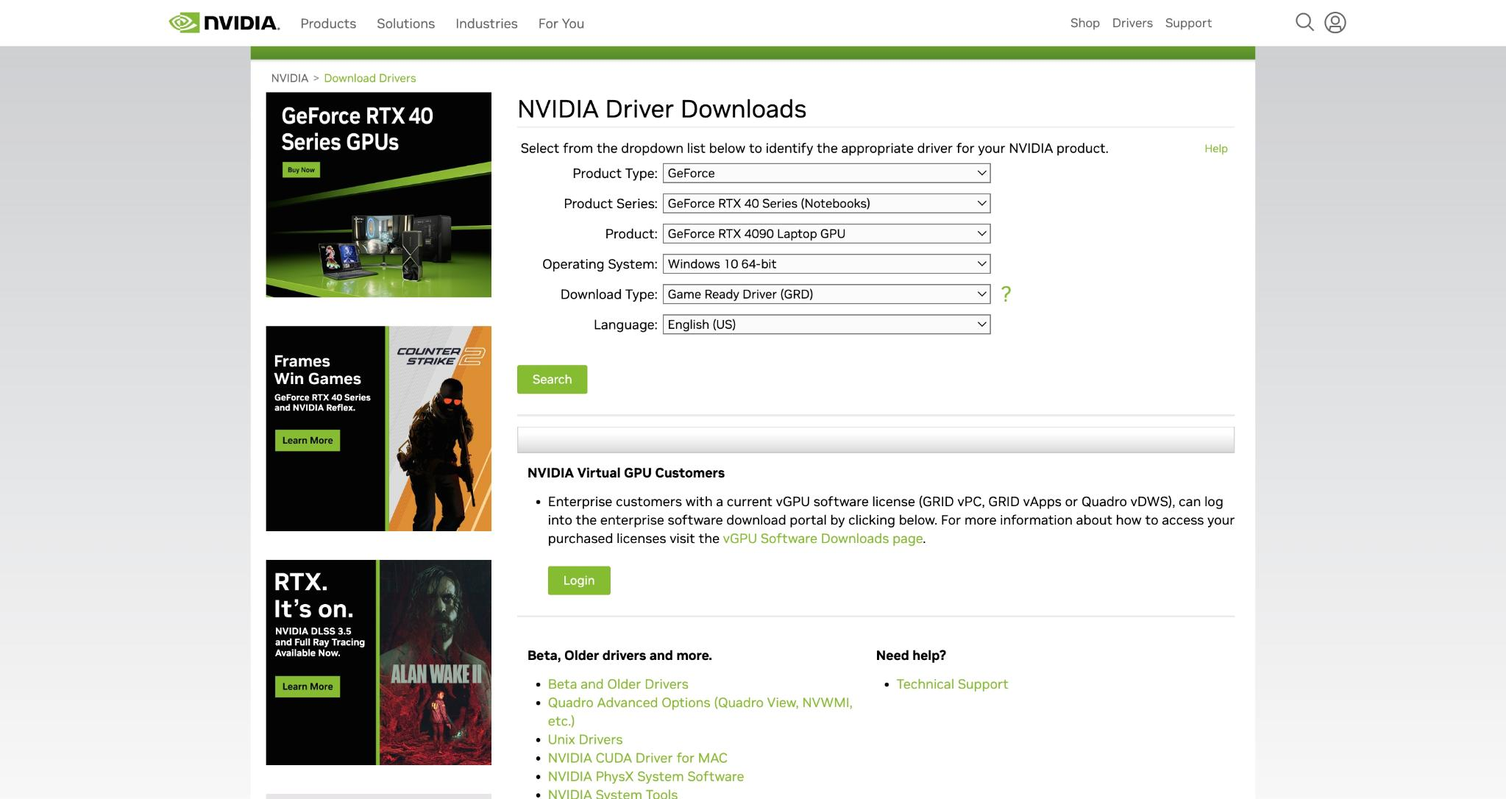webelement: (266, 91, 491, 296), (266, 325, 491, 530), (266, 559, 491, 764), (528, 462, 1235, 481), (548, 693, 853, 728), (661, 162, 990, 182), (661, 193, 990, 213), (661, 253, 990, 273), (877, 645, 1235, 663), (528, 645, 876, 663), (661, 223, 990, 242), (661, 284, 990, 303), (661, 315, 990, 334), (158, 1, 289, 42), (266, 294, 491, 310), (266, 528, 491, 544), (266, 762, 491, 778), (548, 767, 744, 784), (722, 530, 921, 546), (548, 749, 727, 765), (548, 675, 688, 692), (168, 11, 279, 31), (896, 675, 1008, 692), (548, 786, 678, 799), (454, 11, 517, 35), (376, 11, 434, 35), (266, 793, 491, 799), (299, 11, 355, 35), (548, 731, 622, 747), (517, 370, 588, 386), (538, 11, 583, 35), (548, 572, 610, 588), (1165, 13, 1212, 29), (1112, 13, 1152, 29), (1294, 9, 1318, 33), (1323, 9, 1347, 33), (271, 70, 308, 84), (1070, 13, 1099, 29), (1323, 21, 1347, 38), (1204, 141, 1228, 155), (995, 288, 1010, 304), (995, 260, 998, 277), (995, 171, 998, 187), (995, 200, 998, 216), (995, 231, 998, 247)
